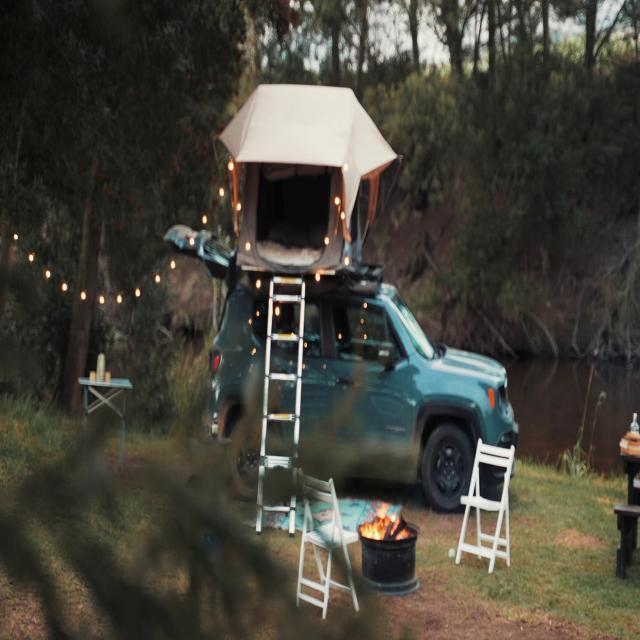Fire: (364, 496, 404, 544)
